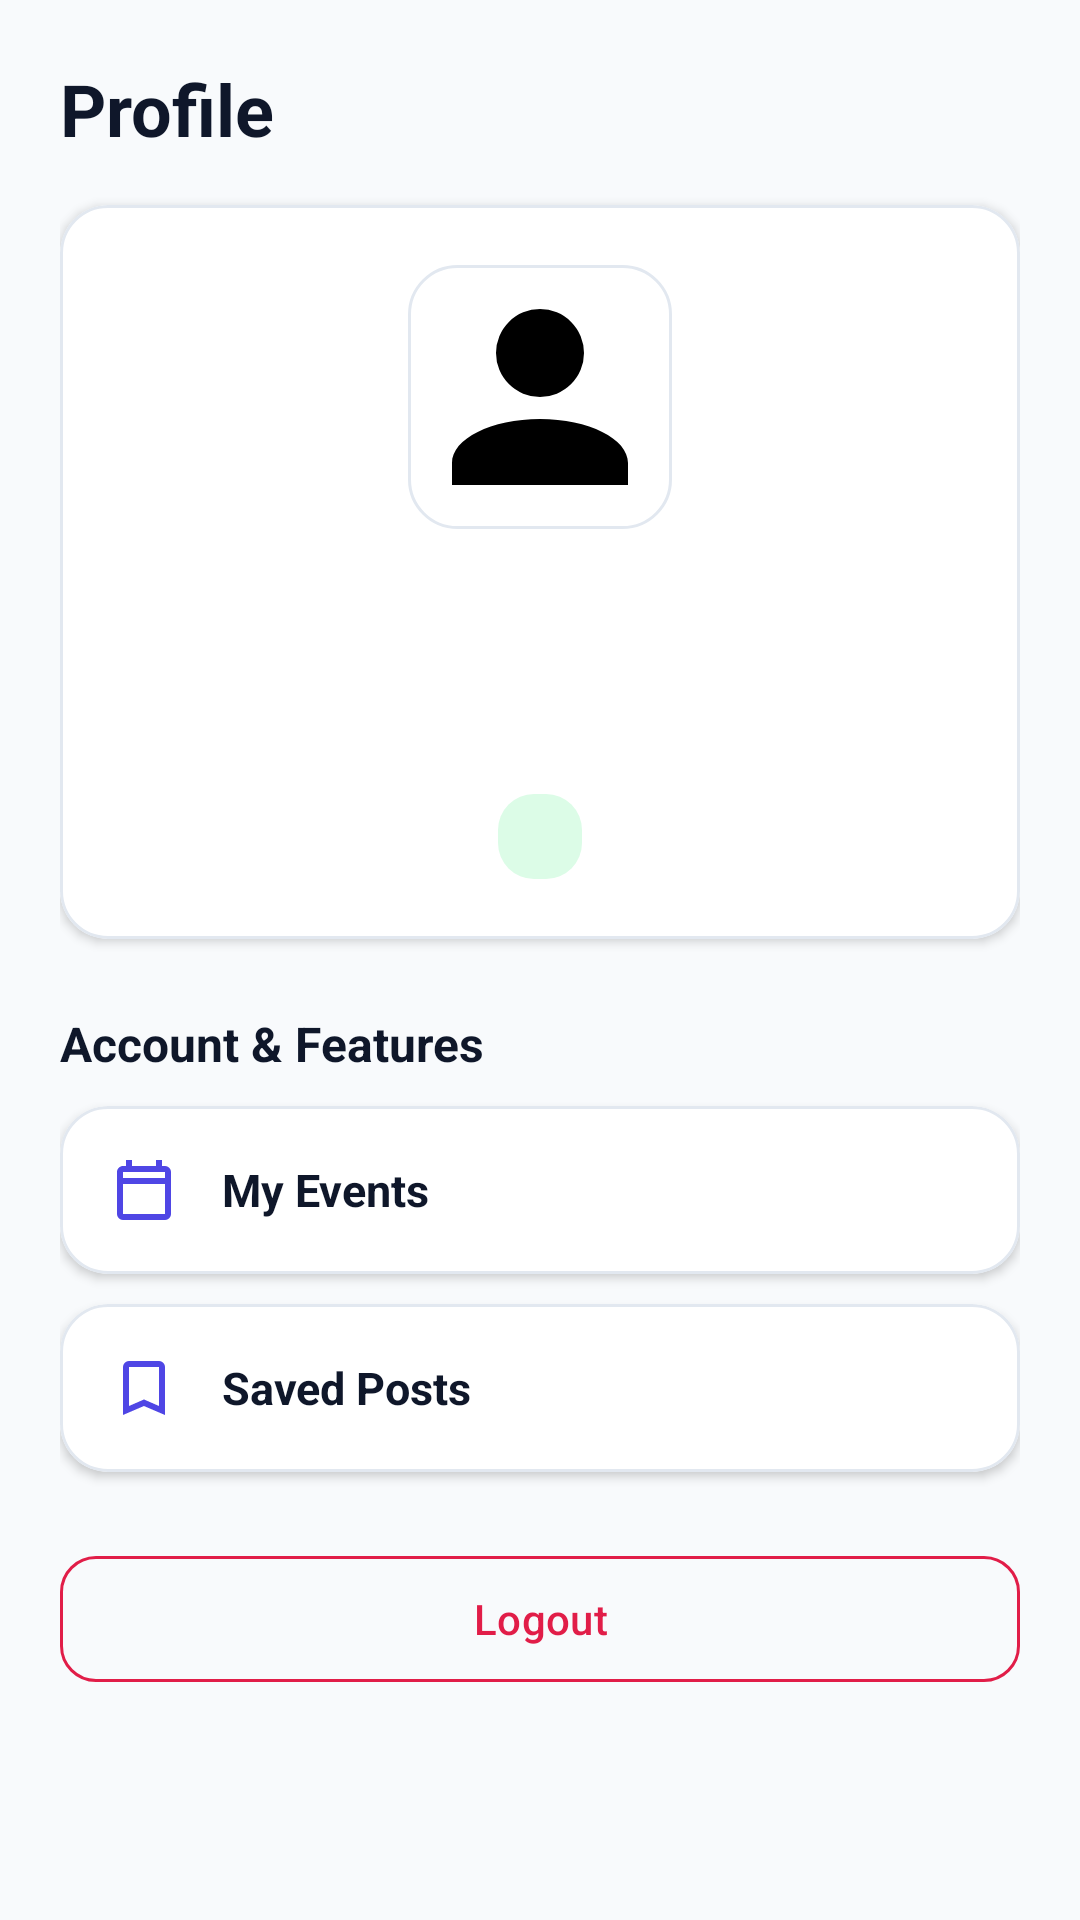

Where to tap for icons on this 1080x1920 app screen, as (x,y):
bookmark: (144,1388)
